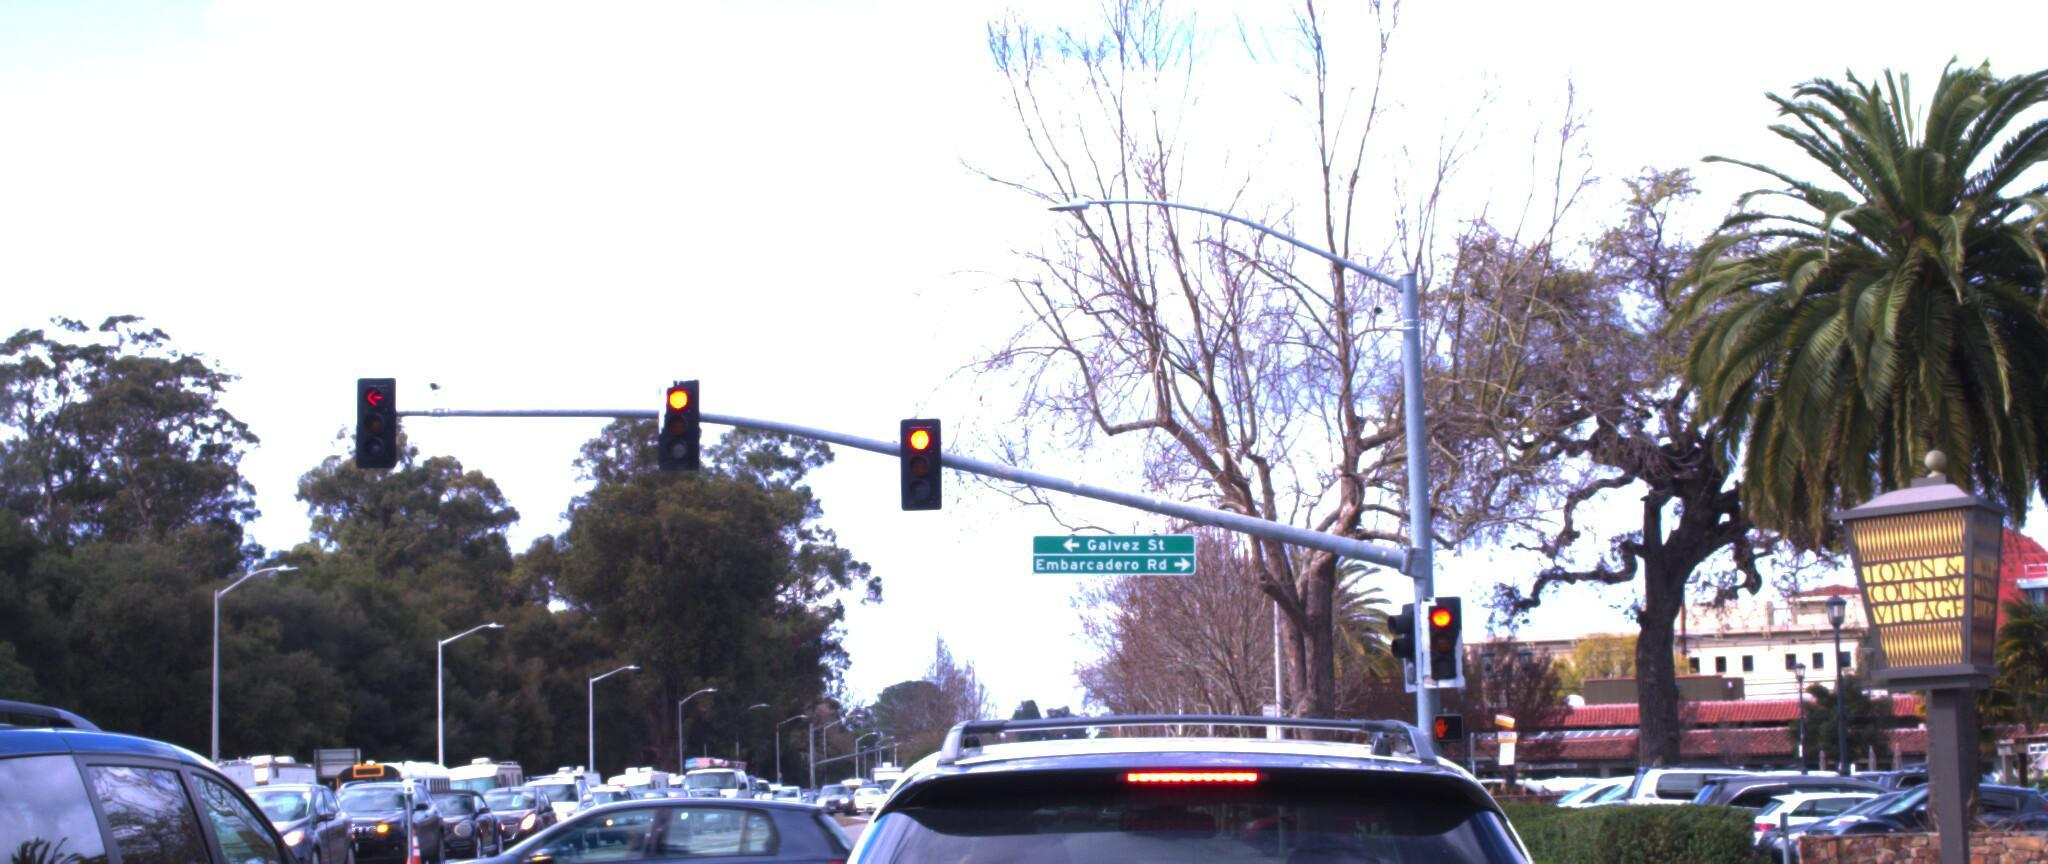car: (680, 673, 1727, 864), (0, 676, 445, 864), (359, 770, 897, 864), (1674, 750, 1981, 856), (1733, 765, 2048, 864), (1799, 757, 2048, 864), (191, 762, 371, 864), (296, 762, 456, 857), (509, 747, 620, 825), (895, 754, 972, 827)
other_vehicle: (0, 700, 98, 854)
